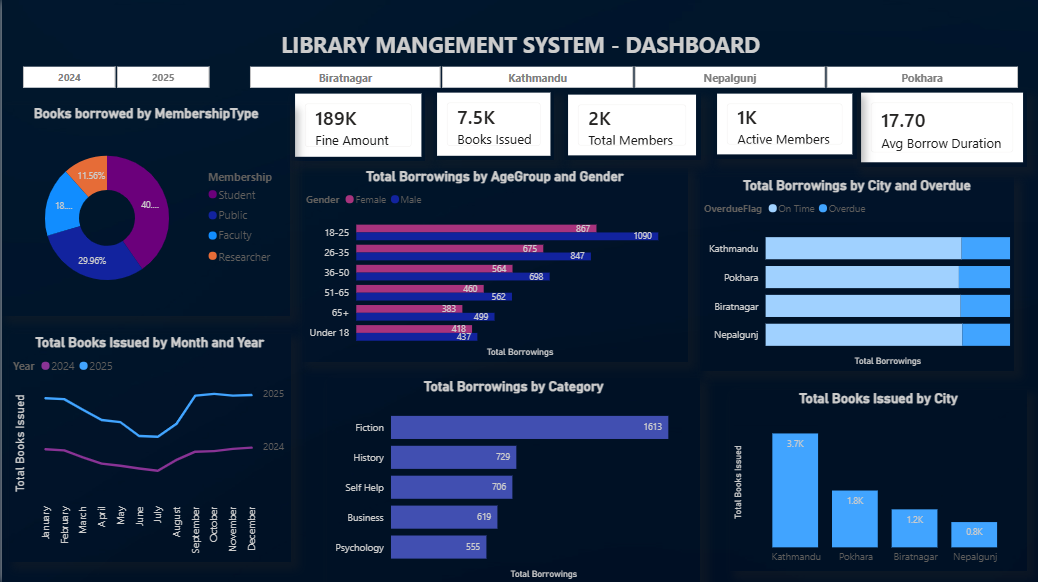

What the dashboard file says about the page in this screenshot:
{"tool":"powerbi","page":{"name":"Page 1","canvas":[1280,720],"ordinal":0},"visuals":[{"type":"slicer","fields":{"Values":["library_final_dataset.City"]},"box":[280,75,997.5,40],"z":0},{"type":"cardVisual","fields":{"Data":["Sum(library_final_dataset.FineAmountNPR)"]},"box":[356.2,113.8,166.2,85],"z":1000},{"type":"textbox","box":[0,31.1,1280.6,53.4],"z":2000},{"type":"slicer","fields":{"Values":["library_final_dataset.BorrowYear"]},"box":[0,75,280,40],"z":3000},{"type":"donutChart","title":"Books borrowed by MembershipType","fields":{"Category":["library_final_dataset.MembershipType"],"Y":["CountNonNull(library_final_dataset.Category)"]},"box":[0,130,356.2,260],"z":4000},{"type":"cardVisual","fields":{"Data":["library_final_dataset.Total Books Issued"]},"box":[532.5,112.5,150,85],"z":5000},{"type":"stackedAreaChart","fields":{"Category":["library_final_dataset.BorrowDate.Variation.Date Hierarchy.Month"],"Series":["library_final_dataset.BorrowYear"],"Y":["library_final_dataset.Total Books Issued"]},"box":[8.8,412.5,347.5,281.2],"z":6000},{"type":"columnChart","fields":{"Category":["library_final_dataset.City"],"Y":["library_final_dataset.Total Books Issued"]},"box":[898.9,481.1,366.7,224.4],"z":7000},{"type":"cardVisual","fields":{"Data":["library_final_dataset.Avg Borrow Duration"]},"box":[1055,112.5,210,93.8],"z":8000},{"type":"cardVisual","fields":{"Data":["library_final_dataset.Total Members"]},"box":[693.8,115,168.8,82.5],"z":9000},{"type":"cardVisual","fields":{"Data":["library_final_dataset.Active Members"]},"box":[877.5,113.8,177.5,82.5],"z":10000},{"type":"clusteredBarChart","fields":{"Category":["library_final_dataset.AgeGroup"],"Y":["library_final_dataset.Total Borrowings"],"Series":["library_final_dataset.Gender"]},"box":[370,207.5,476.2,238.8],"z":11000},{"type":"clusteredBarChart","fields":{"Y":["library_final_dataset.Total Borrowings"],"Category":["library_final_dataset.Category"]},"box":[401.2,466.2,461.2,253.8],"z":12000},{"type":"hundredPercentStackedBarChart","title":"Total Borrowings by City and Overdue","fields":{"Category":["library_final_dataset.City"],"Y":["library_final_dataset.Total Borrowings"],"Series":["library_final_dataset.OverdueFlag"]},"box":[862.2,218.9,387.8,238.9],"z":13000}]}

Visuals, with their boxes in screenshot pixels (x1, y1, x2, y2), scaled from the page's 1280x720 canvas onto the 1038x582 screenshot:
slicer - library_final_dataset.City: 227 61 1036 93
cardVisual - Sum(library_final_dataset.FineAmountNPR): 289 92 424 161
textbox: 0 25 1037 68
slicer - library_final_dataset.BorrowYear: 0 61 227 93
"Books borrowed by MembershipType" donutChart: 0 105 289 315
cardVisual - library_final_dataset.Total Books Issued: 432 91 553 160
stackedAreaChart - library_final_dataset.BorrowDate.Variation.Date Hierarchy.Month x library_final_dataset.BorrowYear: 7 333 289 561
columnChart - library_final_dataset.City x library_final_dataset.Total Books Issued: 729 389 1026 570
cardVisual - library_final_dataset.Avg Borrow Duration: 856 91 1026 167
cardVisual - library_final_dataset.Total Members: 563 93 700 160
cardVisual - library_final_dataset.Active Members: 712 92 856 159
clusteredBarChart - library_final_dataset.AgeGroup x library_final_dataset.Total Borrowings: 300 168 686 361
clusteredBarChart - library_final_dataset.Total Borrowings x library_final_dataset.Category: 325 377 699 581
"Total Borrowings by City and Overdue" hundredPercentStackedBarChart: 699 177 1014 370
